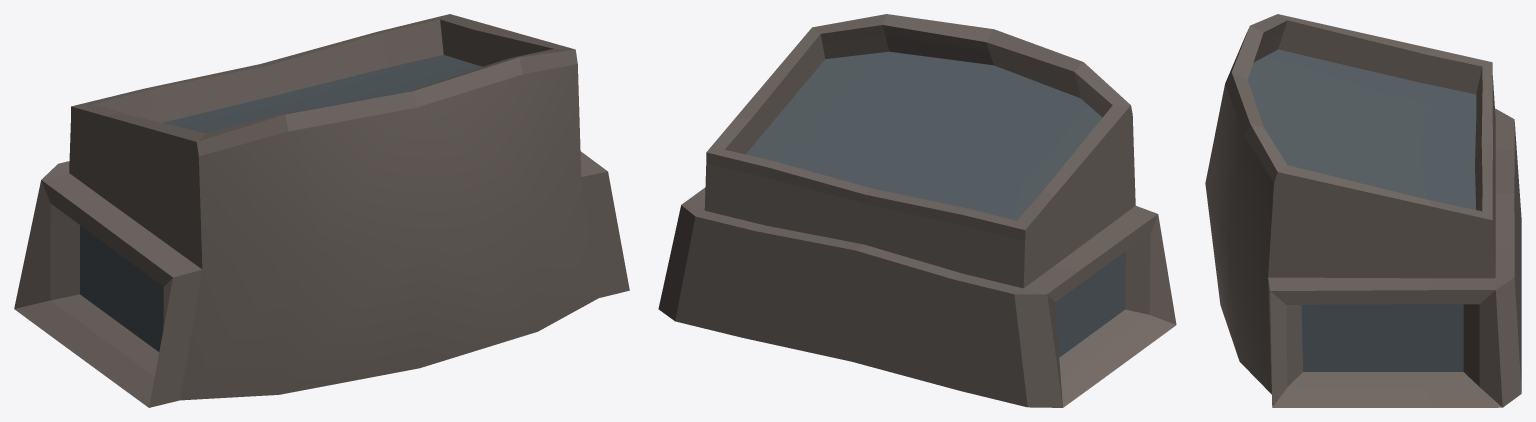
File: SM_counter_01.fbx
3 renders of one model, left to right at view 1: azimuth 30°, elevation 25°; view 2: azimuth 150°, elevation 25°; view 3: azimuth 270°, elevation 25°, orthographic. The views are drawn at different scales.
Visible parts, largest first — view 1: counter_01; view 2: counter_01; view 3: counter_01.
Boxes of the visible parts, x1,y1,x2,y2 form: counter_01: [14, 14, 629, 407]; counter_01: [658, 14, 1176, 407]; counter_01: [1205, 14, 1521, 407].
Bounding box in the file's own units: 64.8 × 35.48 × 43.19.
